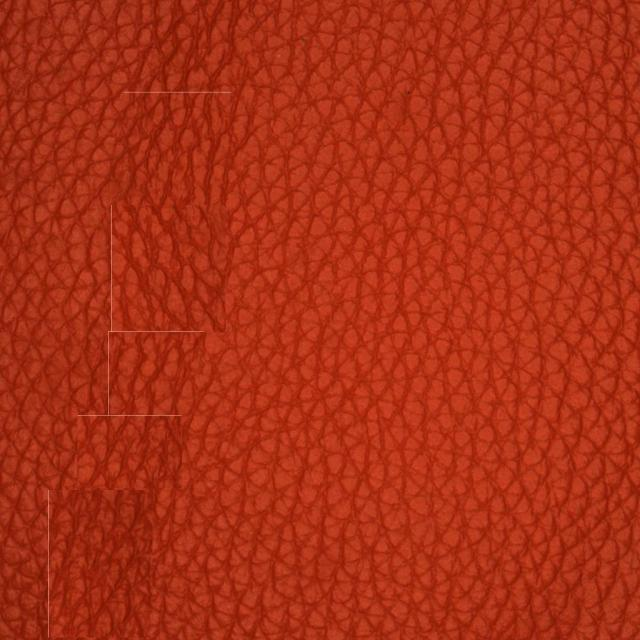Healed Injury: (79, 92, 300, 325), (50, 392, 290, 577)
